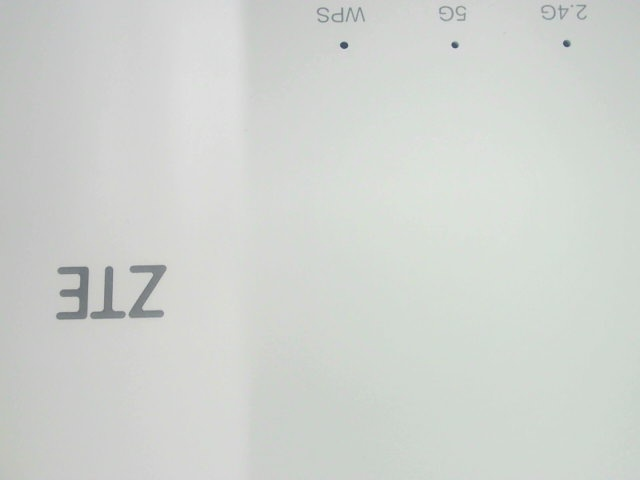AO_ZTESmall: (47, 248, 185, 338)
